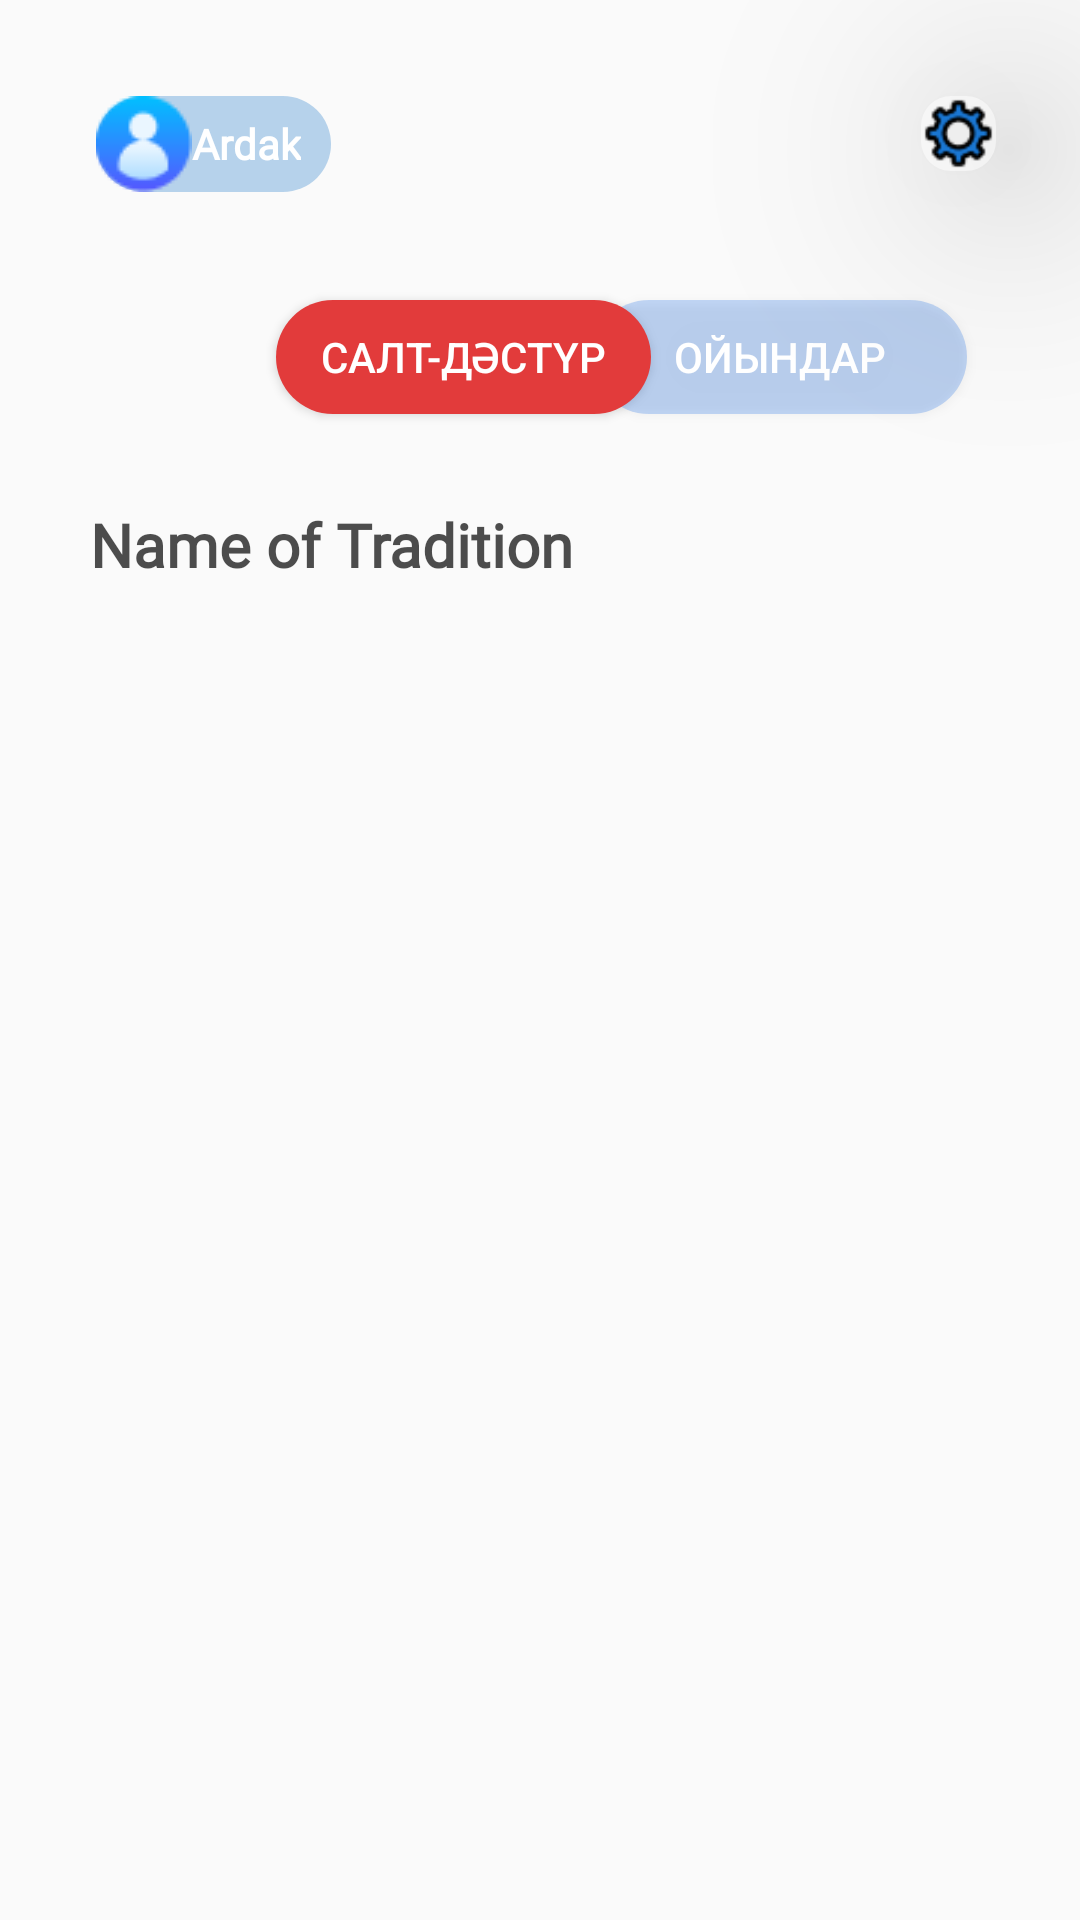

Locate icon controls on the screen. Image size 1080*1920, boxes as [x1=x1, y1=y1, x2=x2, y2=y2].
settings: [x1=925, y1=100, x2=992, y2=167]
user: [x1=96, y1=96, x2=192, y2=192]
